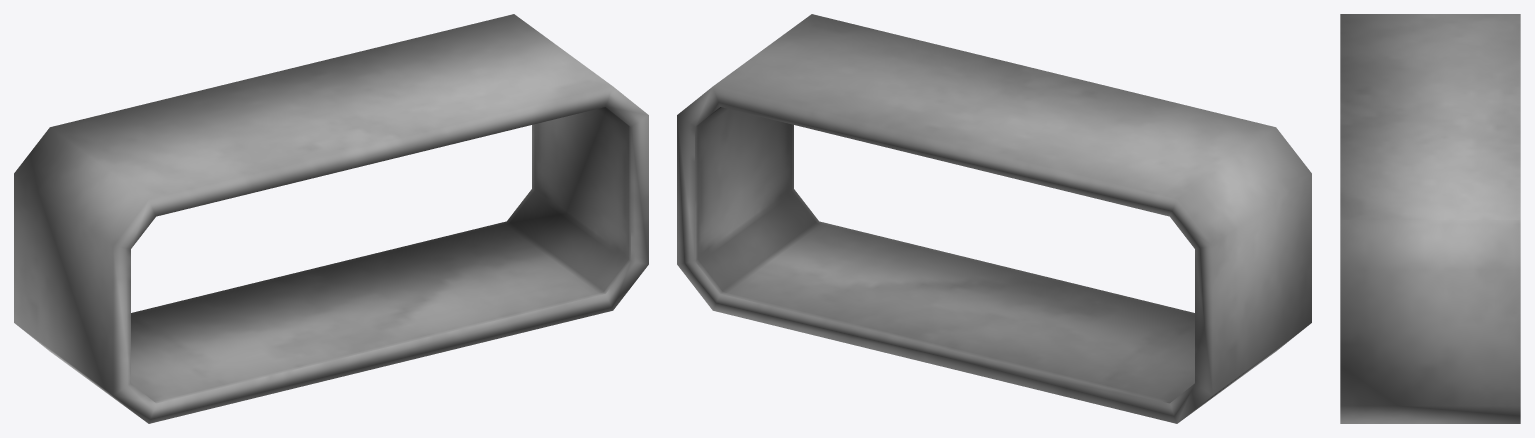
The model's file is Living Room Table3.fbx.
3 views of the same model, side by side, from view 1: azimuth 30°, elevation 25°; view 2: azimuth 150°, elevation 25°; view 3: azimuth 270°, elevation 25° (orthographic). The views are drawn at different scales.
Parts seen in each view (by area): view 1: Living Room Table3; view 2: Living Room Table3; view 3: Living Room Table3.
Boxes of the visible parts, left/top/right/bottom form: Living Room Table3: left=14, top=14, right=648, bottom=423; Living Room Table3: left=677, top=14, right=1311, bottom=423; Living Room Table3: left=1340, top=14, right=1520, bottom=423.
Bounding box in the file's own units: 1.5 × 0.6 × 0.48.
1 material, 1 textured.
